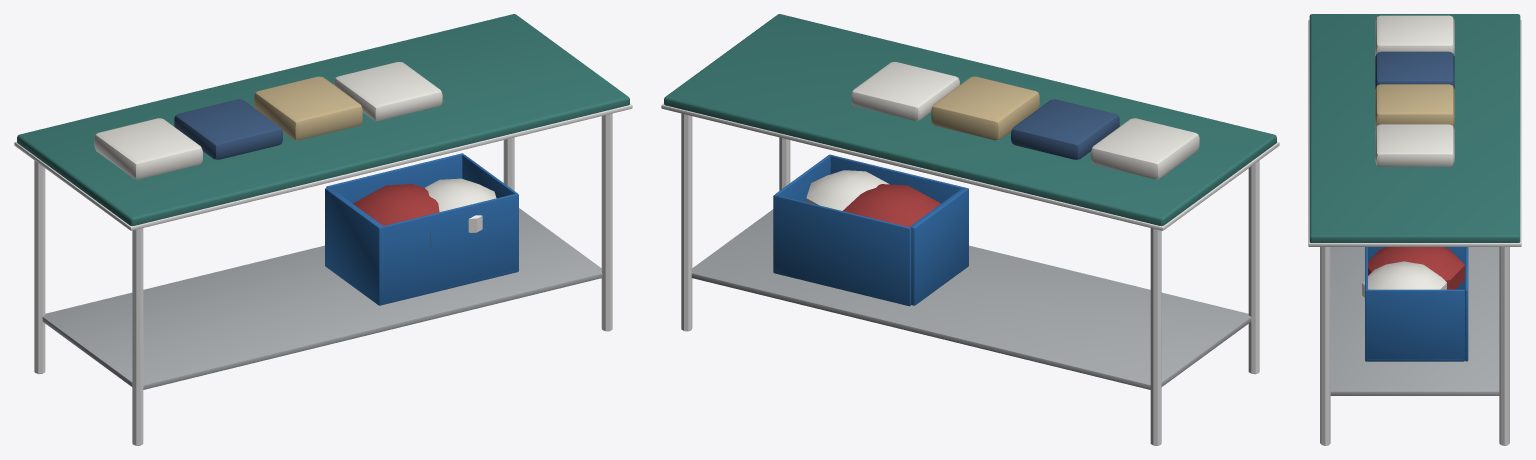
File: mae_folding_table.glb
3 renders of one model, left to right at view 1: azimuth 30°, elevation 25°; view 2: azimuth 150°, elevation 25°; view 3: azimuth 270°, elevation 25°, orthographic. The views are drawn at different scales.
Visible parts, largest first — view 1: mae_folding_table; view 2: mae_folding_table; view 3: mae_folding_table.
Part boxes in pixels (left/top/right/bottom): mae_folding_table: left=14, top=14, right=632, bottom=445; mae_folding_table: left=661, top=14, right=1279, bottom=445; mae_folding_table: left=1308, top=14, right=1521, bottom=445.
Bounding box in the file's own units: 2.01 × 0.9833 × 0.81.
